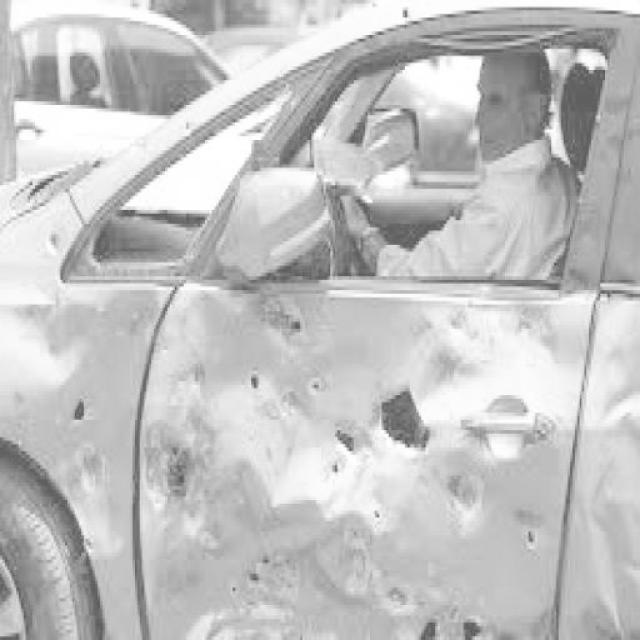car damage: (4, 217, 637, 634)
